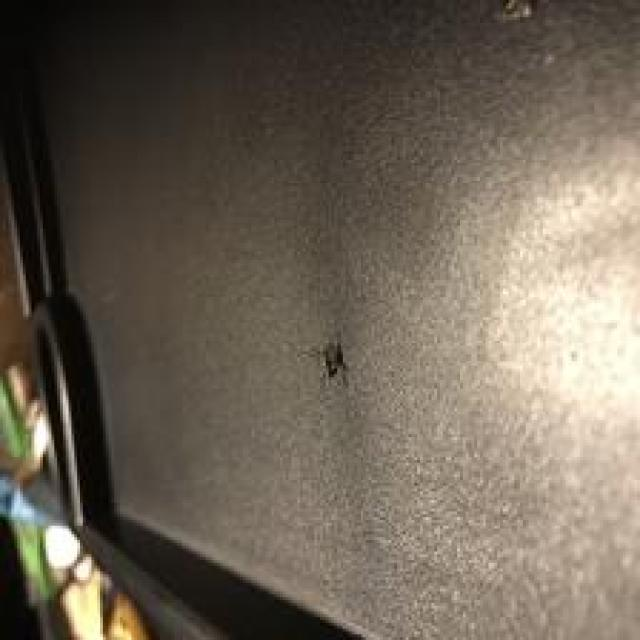Aedes albopictus: (300, 336, 351, 387)
